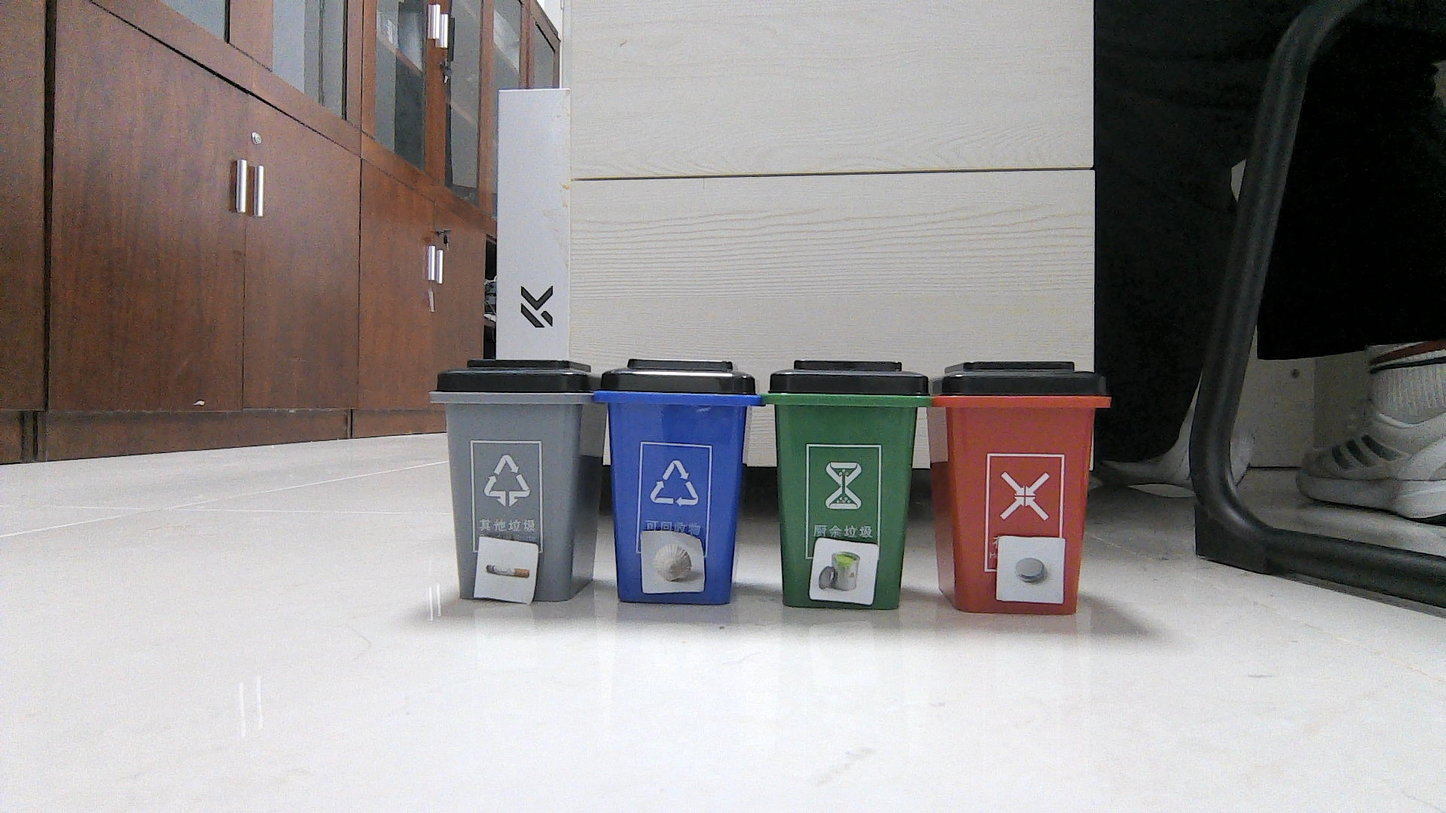hazardous_trash: (1001, 537, 1060, 598), (815, 542, 873, 598)
other_trash: (645, 534, 699, 589), (480, 543, 534, 598)
